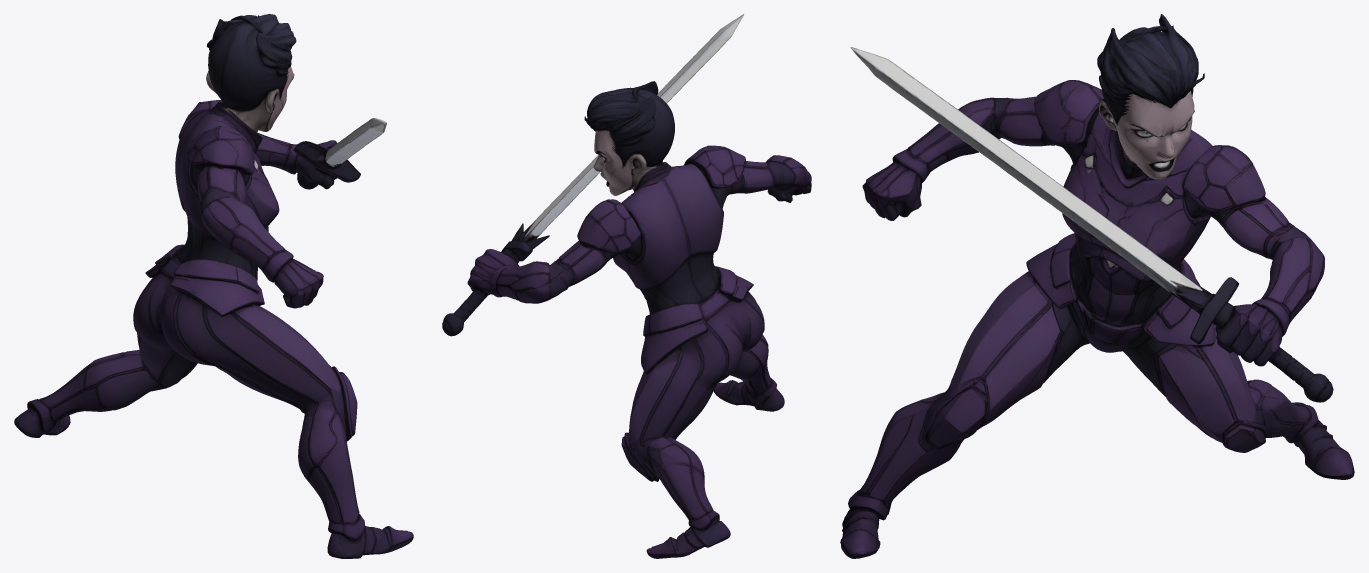
Rendered from psyblade.glb.
3 views of the same model, side by side, from view 1: azimuth 30°, elevation 25°; view 2: azimuth 150°, elevation 25°; view 3: azimuth 270°, elevation 25° (orthographic). The views are drawn at different scales.
Parts seen in each view (by area): view 1: tripo_node_b57e1974-8e6d-47eb-a01b-4c3d51c723f4; view 2: tripo_node_b57e1974-8e6d-47eb-a01b-4c3d51c723f4; view 3: tripo_node_b57e1974-8e6d-47eb-a01b-4c3d51c723f4.
Boxes of the visible parts, x1,y1,x2,y2 form: tripo_node_b57e1974-8e6d-47eb-a01b-4c3d51c723f4: [14, 14, 413, 558]; tripo_node_b57e1974-8e6d-47eb-a01b-4c3d51c723f4: [442, 14, 811, 558]; tripo_node_b57e1974-8e6d-47eb-a01b-4c3d51c723f4: [840, 14, 1354, 558].
Bounding box in the file's own units: 0.7332 × 1 × 0.9017.
Materials: 1 (1 with a texture image).
